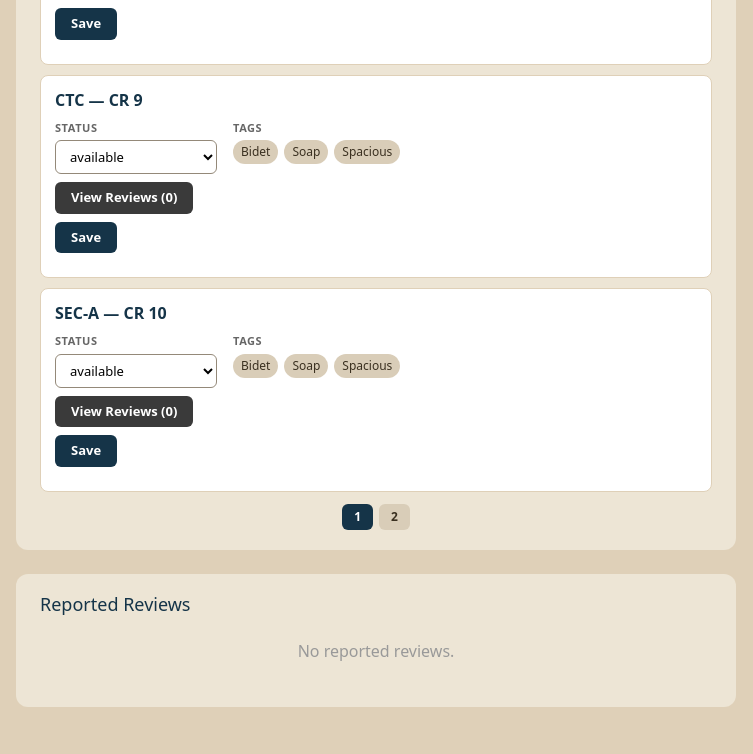
CR Management — CR pagination › resets to page 1 after a new search is run
(page scrolled)
Step 1. Click the button "2" → (394, 517), box [379, 504, 410, 530]
(page scrolled)
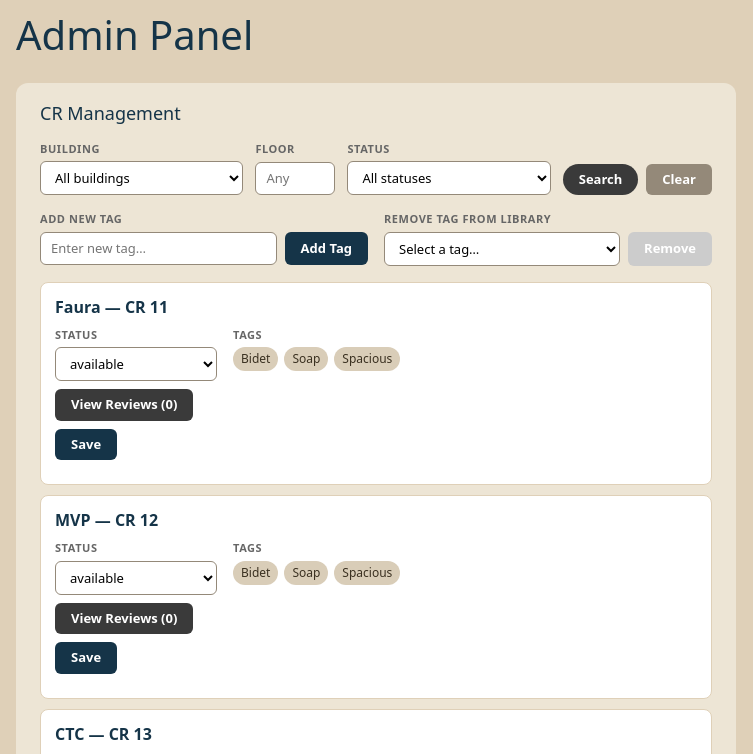
Result: the text "Faura — CR 11" is shown at [55, 296, 168, 318]
Step 2. Click the button "Search" → (601, 179), box [563, 164, 638, 195]
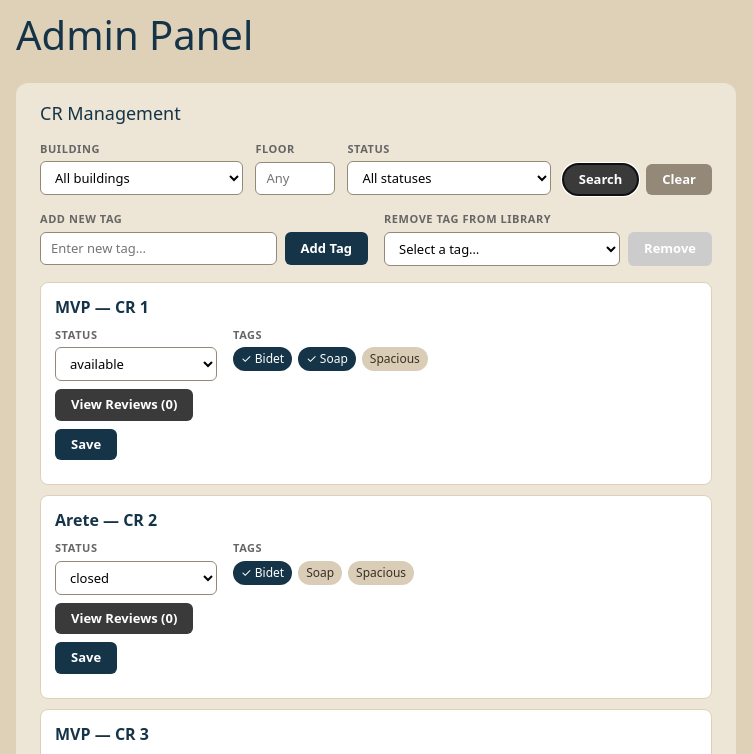
Expected: the text "MVP — CR 1" is shown, [55, 296, 149, 318]
Result: the text "Faura — CR 11" is gone
